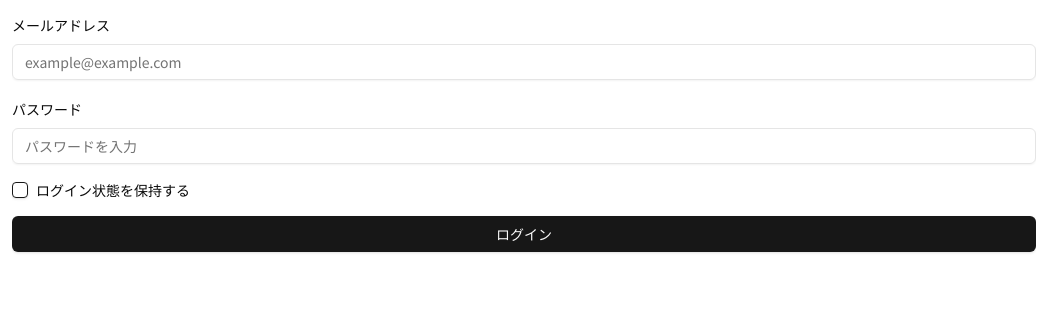
Test case: LoginForm › ログイン失敗 › 認証エラー時にエラーメッセージが表示されること
The width and height of the screenshot is (1048, 332).
Step 1. Type "test@example.com" into the field labelled "メールアドレス" → (524, 62), box [12,44,1036,80]
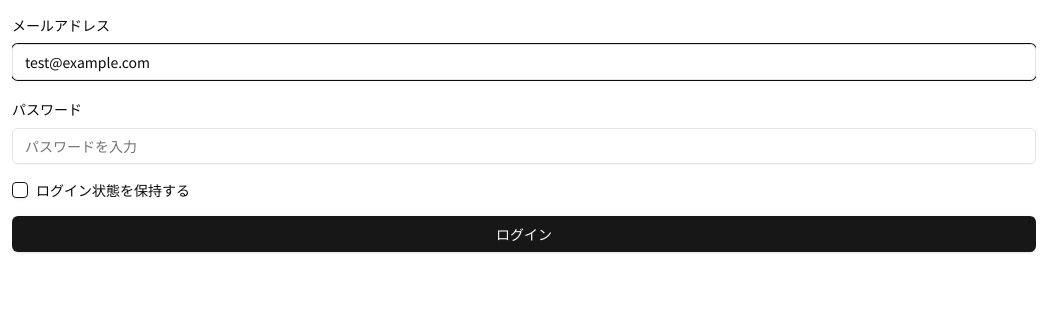
Step 2. Type "wrongpassword" into the password field labelled "パスワード" → (524, 146), box [12,128,1036,164]
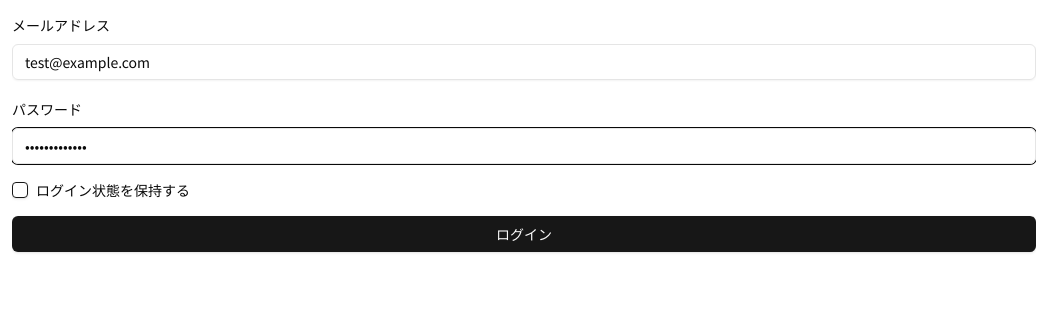
Step 3. Click the button "ログイン" → (524, 234), box [12,216,1036,252]
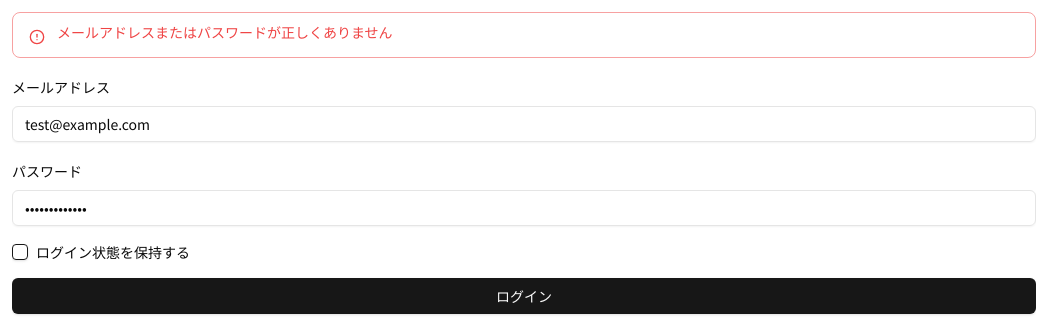
Now the text "メールアドレスまたはパスワードが正しくありません" is shown, box [57,22,393,42]
